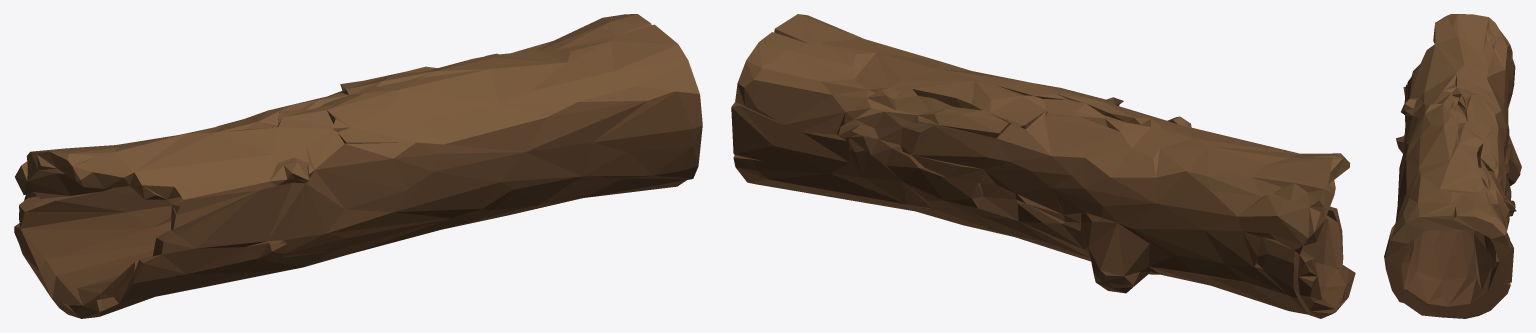
File: log-1.glb
3 views of the same model, side by side, from view 1: azimuth 30°, elevation 25°; view 2: azimuth 150°, elevation 25°; view 3: azimuth 270°, elevation 25° (orthographic). The views are drawn at different scales.
Parts seen in each view (by area): view 1: output_unwrapped; view 2: output_unwrapped; view 3: output_unwrapped.
Boxes of the visible parts, left/top/right/bottom form: output_unwrapped: left=14, top=14, right=702, bottom=318; output_unwrapped: left=731, top=14, right=1355, bottom=318; output_unwrapped: left=1384, top=14, right=1521, bottom=318.
Bounding box in the file's own units: 4 × 1.03 × 1.16.
